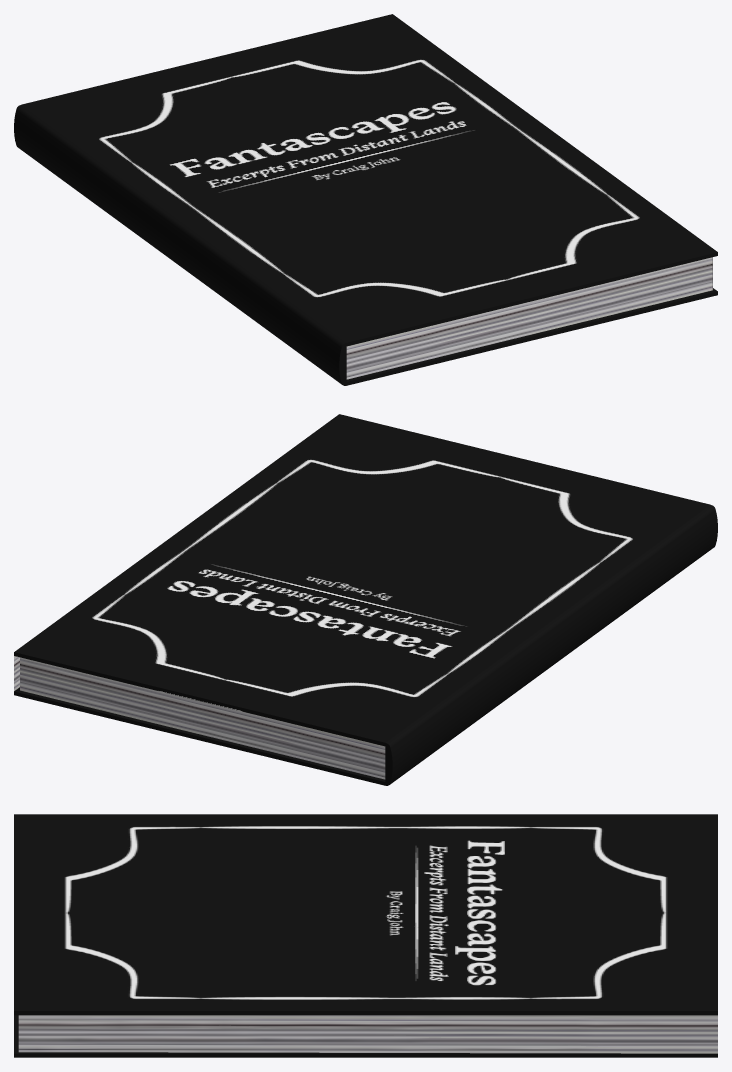
The model's file is Book.gltf.
3 renders of one model, top to bottom at view 1: azimuth 30°, elevation 25°; view 2: azimuth 150°, elevation 25°; view 3: azimuth 270°, elevation 25°, orthographic. The views are drawn at different scales.
Parts seen in each view (by area): view 1: Cube; view 2: Cube; view 3: Cube.
Part boxes in pixels (x1,y1,x2,y2): Cube: (14,14,717,385); Cube: (14,414,717,785); Cube: (14,814,717,1057).
Size of the model in its own units: 1.84 by 0.2 by 2.74.
Materials: 2 (2 with a texture image).
